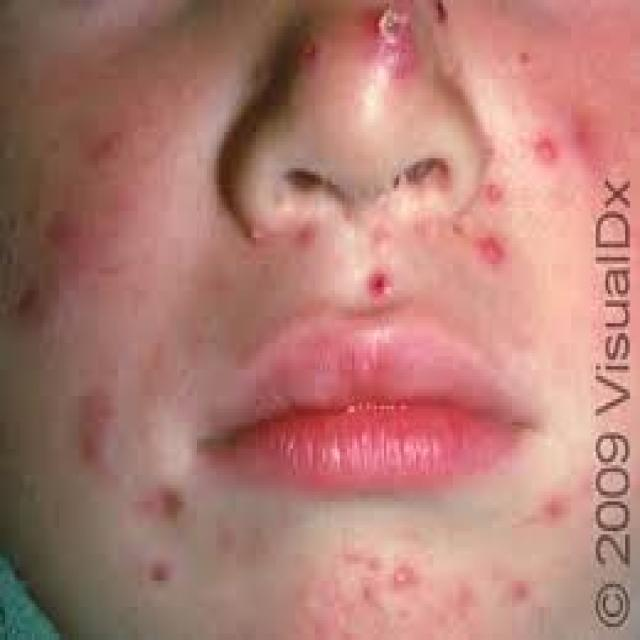Acne: (360, 0, 423, 81), (72, 381, 123, 476), (469, 229, 514, 271), (360, 259, 396, 303), (386, 554, 424, 594), (531, 128, 563, 168), (241, 215, 268, 254), (292, 216, 321, 251), (299, 28, 321, 70), (480, 177, 506, 207)
